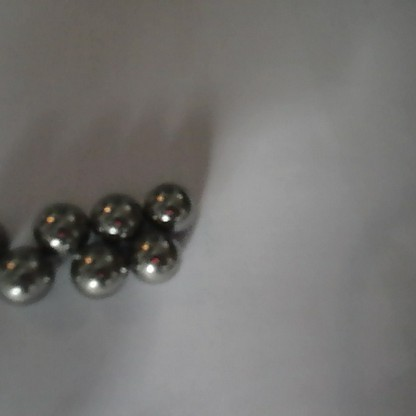ironball: (0, 244, 58, 309), (71, 239, 127, 303), (128, 226, 183, 289), (89, 189, 145, 245), (141, 179, 196, 236), (29, 201, 89, 253)
